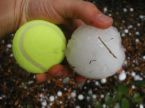tennis ball: (11, 19, 66, 76)
